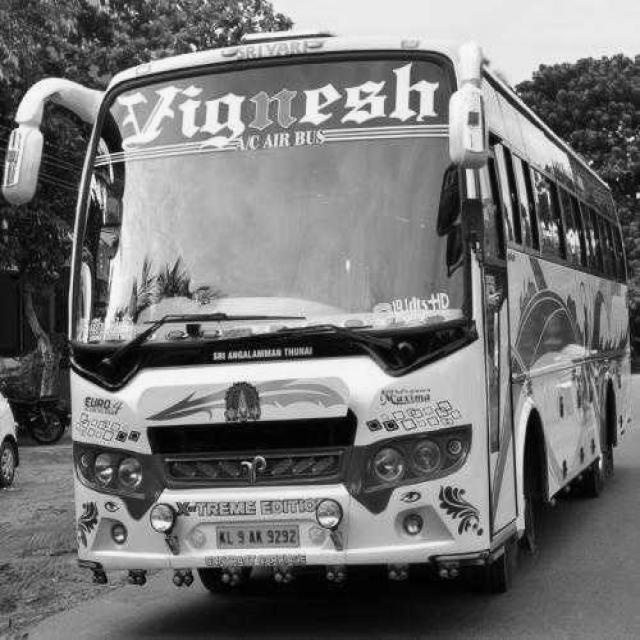Bus: (3, 34, 631, 594)
